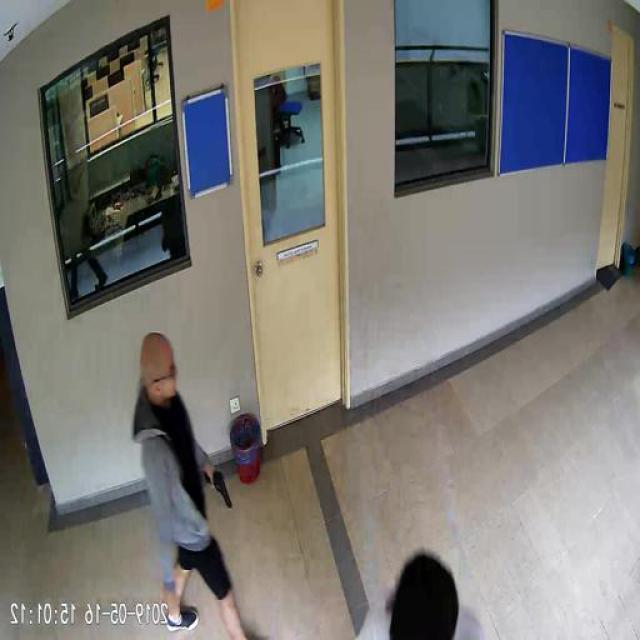Gun: (208, 465, 234, 509)
